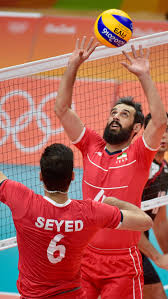ball: (93, 8, 133, 48)
